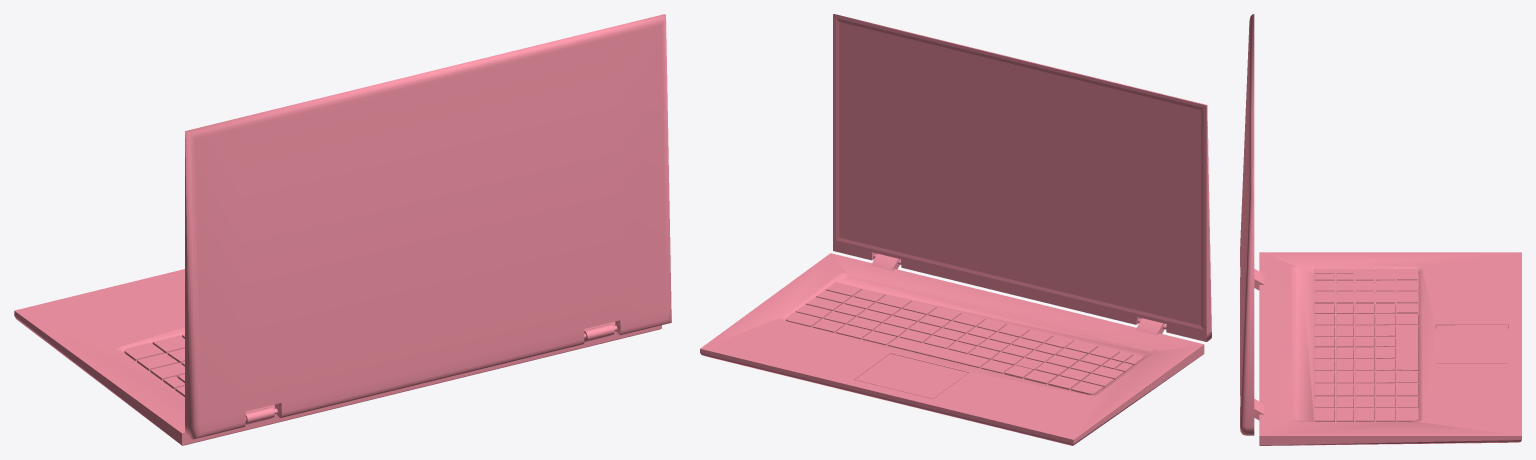
The model's file is ordi.FBX.
The picture shows the model from 3 angles, left to right: view 1: azimuth 30°, elevation 25°; view 2: azimuth 150°, elevation 25°; view 3: azimuth 270°, elevation 25°; orthographic projection. The views are drawn at different scales.
Visible parts, largest first — view 1: ordiLOD0; view 2: ordiLOD0; view 3: ordiLOD0.
Part boxes in pixels (x1,y1,x2,y2): ordiLOD0: (14,14,671,445); ordiLOD0: (700,14,1211,445); ordiLOD0: (1240,14,1521,445).
Size of what is drawn, in the model's own units: 68.59 by 43.87 by 44.53.
